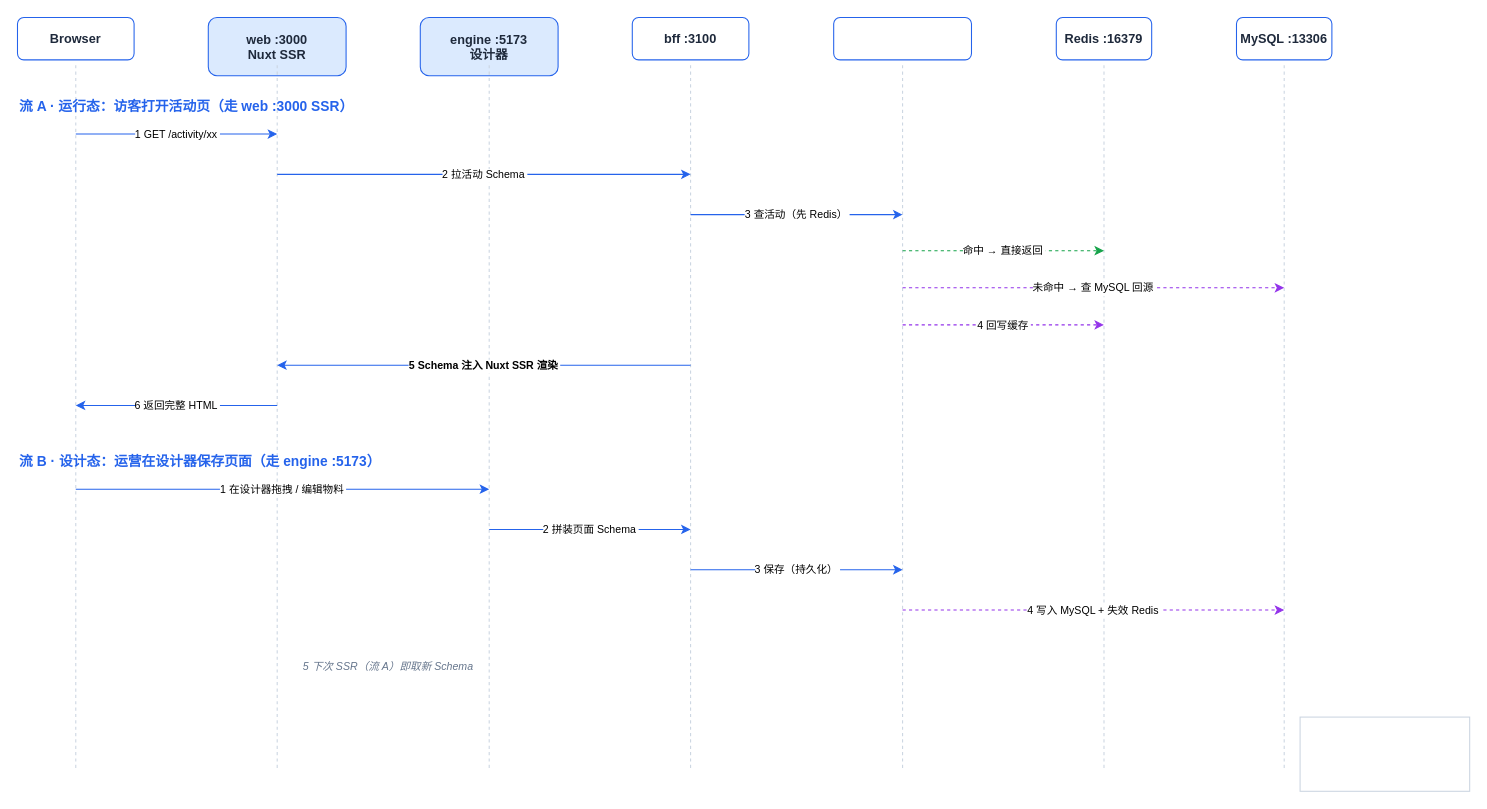
Image size: 1487x809. Some labels were removed from this diagram. The centre of each missing label's shape, as x and y in pixels:
backend :8080: pixel 902 38
实线 = 主调用 绿虚 = 缓存命中 紫虚 = 回源 / 写入: pixel 1384 753
